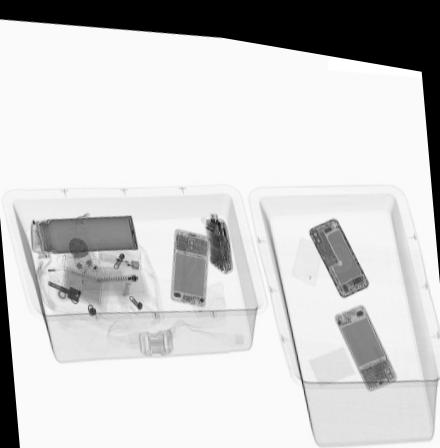Lighter: (97, 248, 137, 265)
